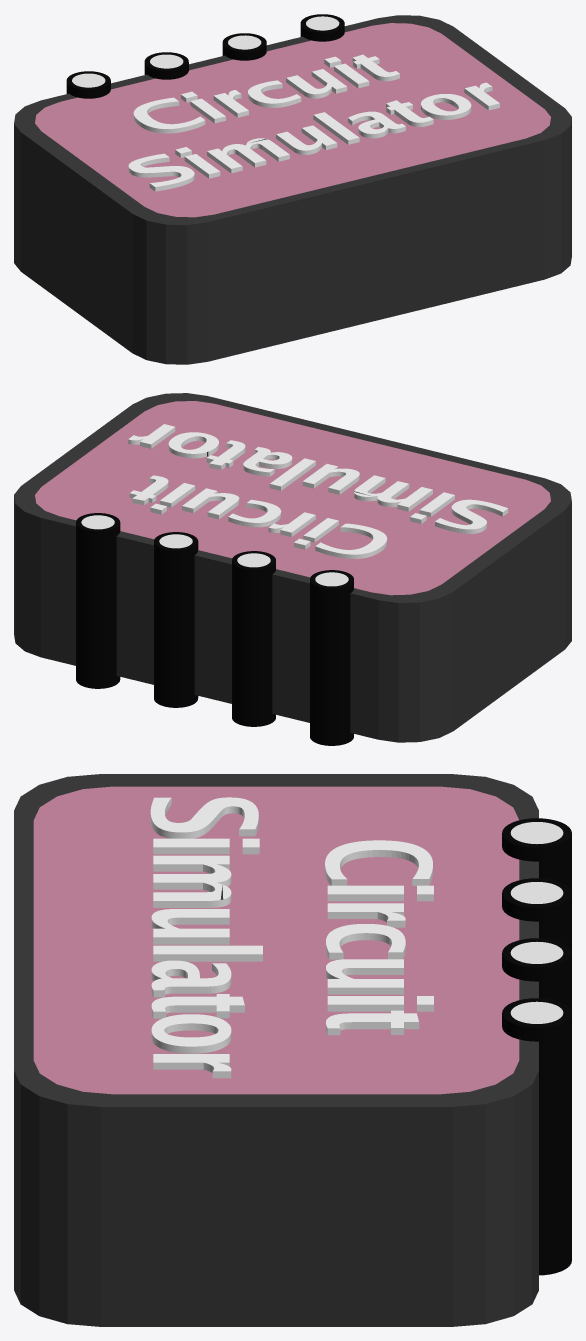
The model's file is circuits.glb.
3 renders of one model, top to bottom at view 1: azimuth 30°, elevation 25°; view 2: azimuth 150°, elevation 25°; view 3: azimuth 270°, elevation 25°, orthographic. The views are drawn at different scales.
Visible parts, largest first — view 1: Cube; view 2: Cube; view 3: Cube.
Boxes of the visible parts, box(x1,y1,x2,y2) form: Cube: box(14, 14, 571, 364); Cube: box(14, 393, 571, 745); Cube: box(14, 774, 571, 1326).
Bounding box in the file's own units: 3.24 × 1.13 × 2.3.
Materials: 1 (1 with a texture image).
